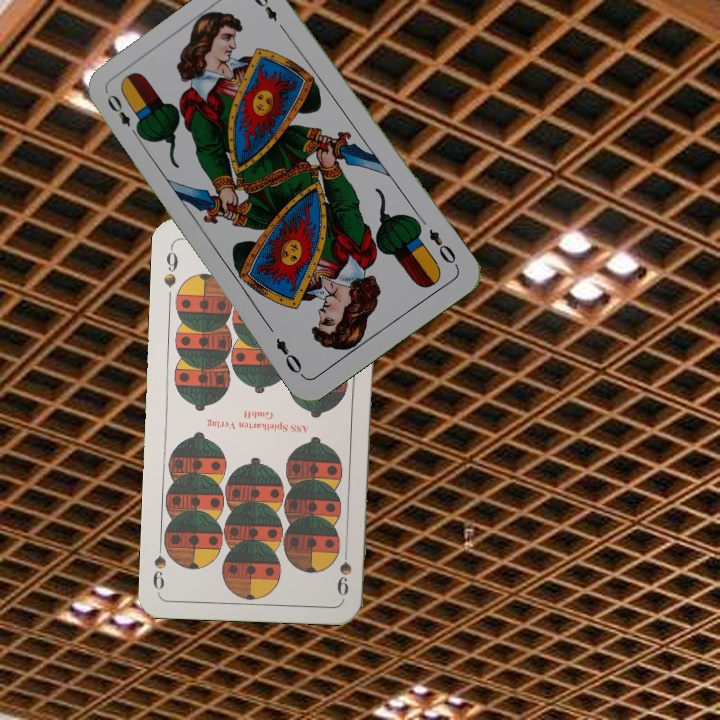EO: (102, 90, 143, 141), (424, 225, 461, 270)
S9: (160, 243, 181, 290), (333, 554, 354, 599)
